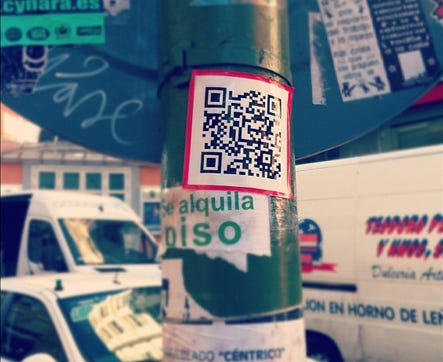QRCode: (201, 85, 283, 181)
